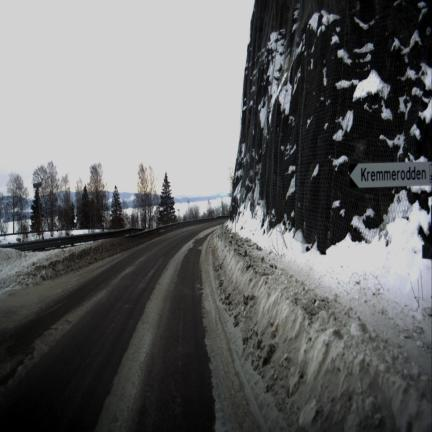Road: (0, 222, 220, 430)
